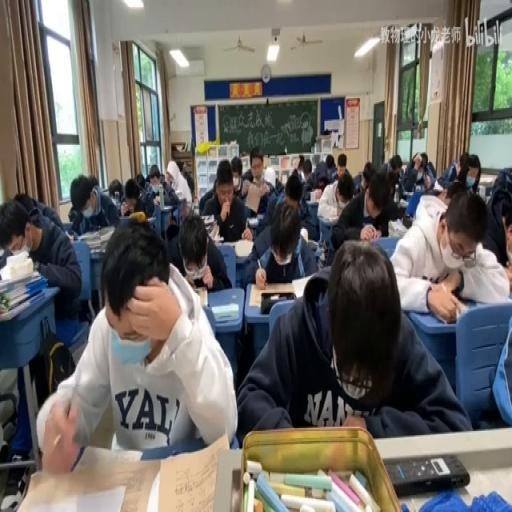calculator: (12, 442, 154, 509), (148, 432, 230, 510), (385, 452, 470, 494), (427, 292, 469, 324), (249, 282, 294, 308), (0, 266, 42, 292), (76, 226, 114, 252), (291, 270, 320, 297), (210, 300, 238, 322), (190, 286, 208, 307), (234, 238, 252, 258), (388, 216, 406, 236), (317, 213, 337, 225), (208, 222, 220, 240), (476, 180, 487, 198), (478, 175, 494, 186), (158, 202, 174, 212), (306, 238, 318, 250), (431, 181, 444, 192), (149, 182, 159, 195), (174, 189, 184, 201), (201, 213, 214, 222), (247, 214, 258, 224), (64, 230, 75, 239), (402, 191, 414, 199), (309, 189, 317, 201), (398, 196, 408, 205), (146, 215, 155, 222)
paper: (38, 222, 232, 469), (238, 240, 469, 441), (2, 193, 82, 326), (246, 199, 316, 292), (332, 166, 399, 249), (474, 302, 511, 426), (198, 158, 249, 243), (70, 170, 120, 232), (482, 168, 511, 270), (239, 148, 272, 219), (146, 162, 180, 218), (438, 151, 476, 193), (118, 174, 152, 218), (402, 151, 435, 193), (164, 222, 182, 272), (282, 170, 302, 204), (336, 174, 354, 204), (14, 190, 35, 212), (361, 160, 374, 194), (180, 165, 193, 198), (315, 162, 331, 188), (299, 156, 313, 184), (262, 165, 276, 188), (108, 178, 122, 199), (336, 154, 347, 180), (390, 154, 402, 174), (240, 166, 253, 184), (353, 171, 363, 192), (134, 172, 146, 189), (388, 172, 398, 192), (470, 171, 480, 189), (324, 154, 334, 170), (447, 164, 456, 179), (420, 155, 426, 171), (158, 174, 165, 184)
person: (402, 213, 412, 226)
